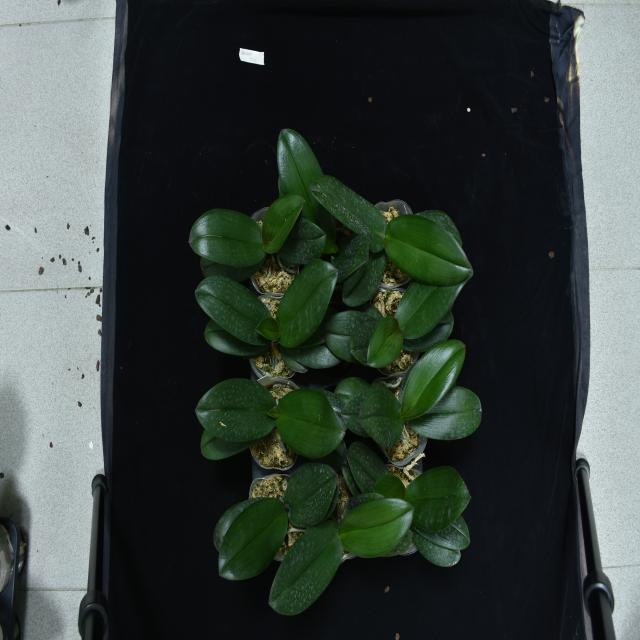leaf: (408, 338, 485, 442), (274, 512, 344, 614), (191, 276, 275, 359), (195, 379, 278, 456), (309, 162, 382, 246), (385, 209, 470, 281), (279, 125, 332, 240), (213, 500, 285, 582), (416, 467, 473, 564), (282, 258, 338, 352), (189, 197, 266, 260), (346, 494, 414, 564), (279, 388, 346, 458), (351, 376, 404, 446), (279, 458, 336, 518), (406, 273, 470, 325), (257, 183, 305, 247), (357, 304, 404, 366)
